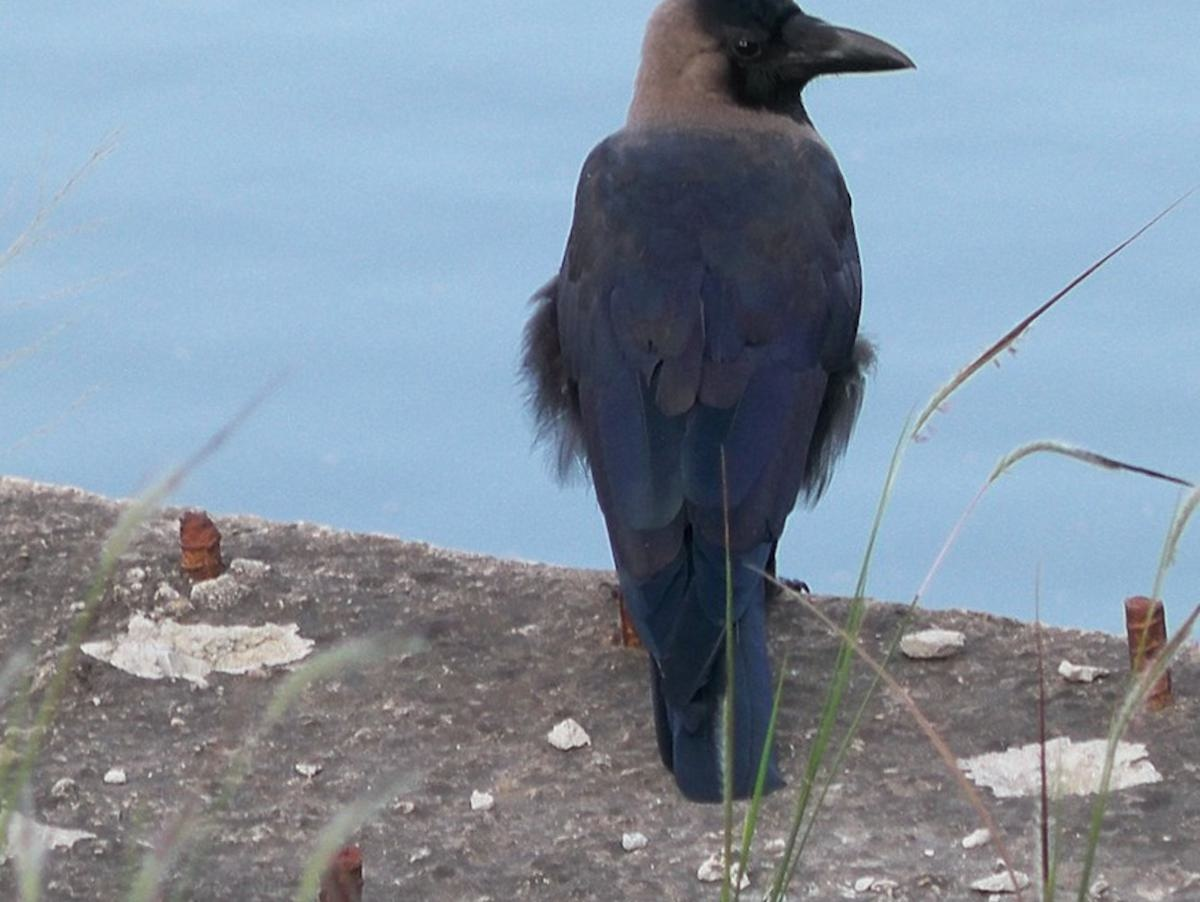crow: (502, 1, 902, 800)
